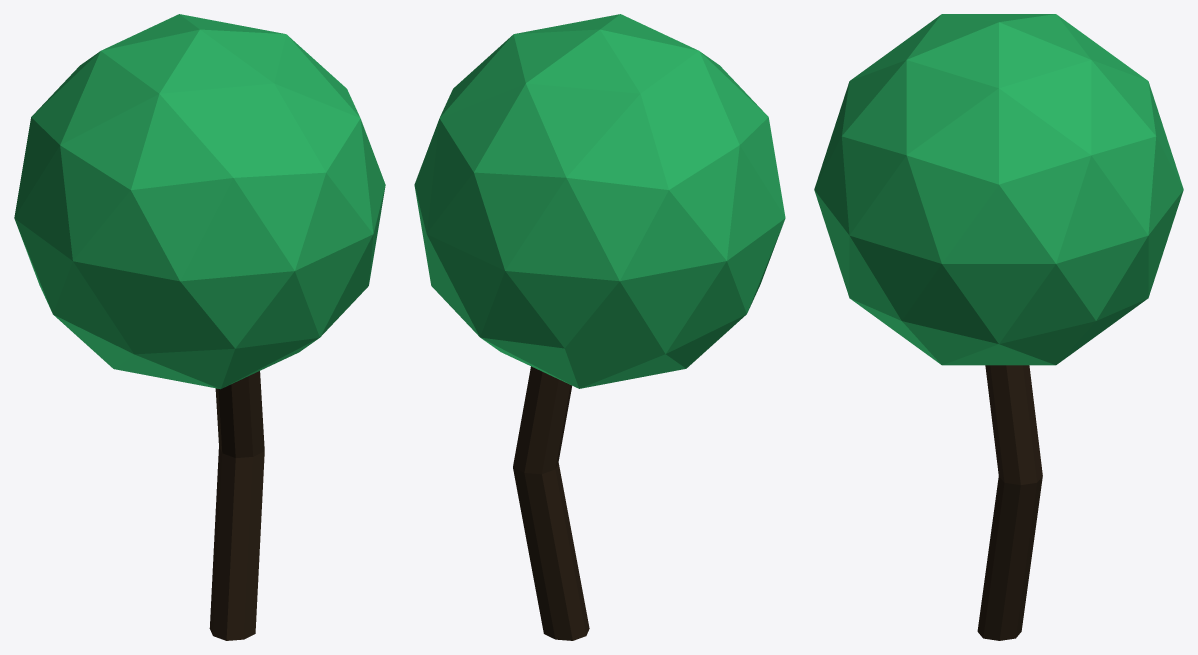
File: tree0.fbx
The picture shows the model from 3 angles, left to right: view 1: azimuth 30°, elevation 25°; view 2: azimuth 150°, elevation 25°; view 3: azimuth 270°, elevation 25°; orthographic projection. The views are drawn at different scales.
Visible parts, largest first — view 1: Tree0; view 2: Tree0; view 3: Tree0.
Boxes of the visible parts, box(x1,y1,x2,y2) form: Tree0: box(14, 14, 385, 640); Tree0: box(414, 14, 785, 640); Tree0: box(814, 14, 1183, 640).
Size of the model in its own units: 340 by 635 by 358.
